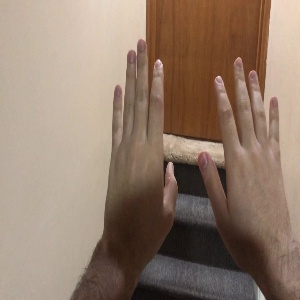hand: (198, 57, 294, 254), (106, 39, 178, 248)
